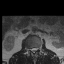CCS_normal: (33, 45, 35, 55)
LFS_normal: (37, 45, 39, 51)
LLS_normal: (35, 45, 37, 52)
RFS_stenosis: (28, 46, 30, 51)
RLS_normal: (30, 46, 33, 52)
